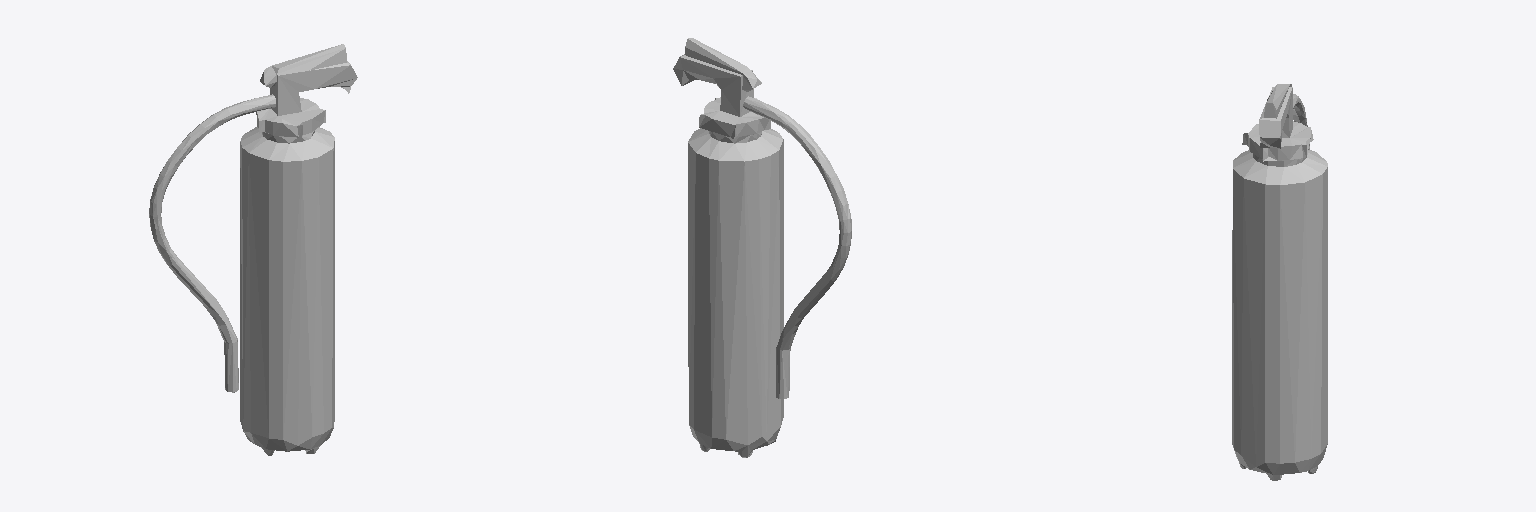
Rendered from Fireextinguisher_BI.obj.
3 renders of one model, left to right at view 1: azimuth 30°, elevation 25°; view 2: azimuth 150°, elevation 25°; view 3: azimuth 270°, elevation 25°, orthographic.
Visible parts, largest first — view 1: Object.3, Object.2; view 2: Object.3, Object.2; view 3: Object.3.
Part boxes in pixels (bbox=[...]): Object.3: bbox=[240, 44, 357, 455]; Object.2: bbox=[149, 94, 275, 392]; Object.3: bbox=[673, 38, 783, 457]; Object.2: bbox=[743, 96, 851, 398]; Object.3: bbox=[1232, 84, 1327, 480].
Size of the model in its own units: 69.4 by 136 by 30.48.